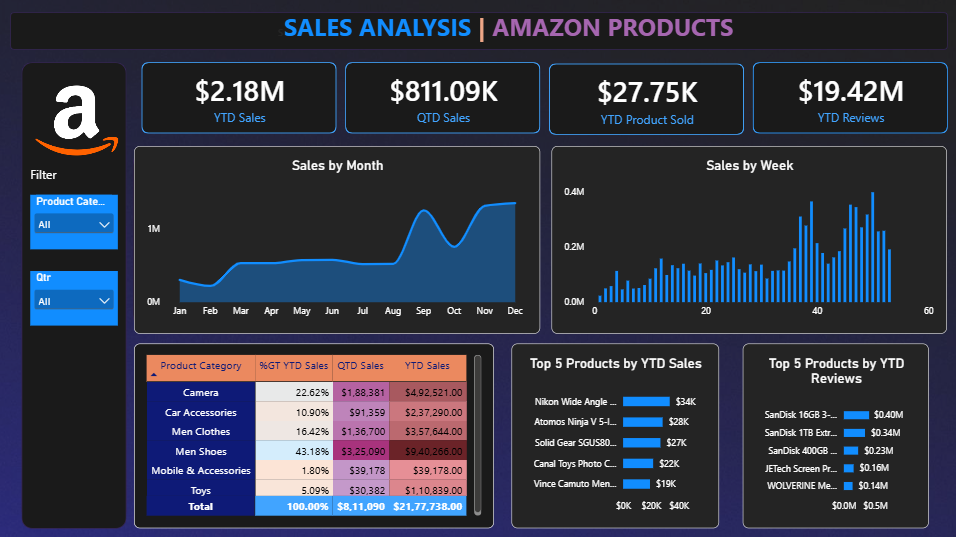

The dashboard page shown, as its layout file describes it:
{"tool":"powerbi","page":{"name":"Page 1","canvas":[1920,1080],"ordinal":0},"visuals":[{"type":"shape","box":[350,261.7,140,622],"z":0},{"type":"shape","box":[335,195,1250,50],"z":1000},{"type":"textbox","box":[691.7,191.7,621.7,58.3],"z":2000},{"type":"shape","box":[510,261.7,260,95],"z":3000},{"type":"cardVisual","fields":{"Data":["Amazon_Data.YTD Sales"]},"box":[510,261.7,260,95],"z":4000},{"type":"shape","box":[781.7,261.7,260,95],"z":5000},{"type":"shape","box":[1053.3,263.3,260,95],"z":6000},{"type":"shape","box":[1325,261.7,260,95],"z":7000},{"type":"cardVisual","fields":{"Data":["Amazon_Data.QTD Sales"]},"box":[781.7,261.7,260,95],"z":8000},{"type":"cardVisual","fields":{"Data":["Amazon_Data.Total_Product Sales"]},"box":[1053.3,263.3,260,95],"z":9000},{"type":"cardVisual","fields":{"Data":["Amazon_Data.Total_Reviews"]},"box":[1325,261.7,260,95],"z":10000},{"type":"shape","box":[498.3,373.3,542,250],"z":11000},{"type":"areaChart","title":"Sales by Month","fields":{"Category":["Date Table.Month column"],"Y":["Sum(Amazon_Data.Price(Dollar))"]},"box":[500,373.3,541.7,250],"z":12000},{"type":"slicer","title":"Sales by Week","fields":{"Values":["Amazon_Data.Product Category"]},"box":[361.4,438.6,117.1,72.9],"z":14000},{"type":"clusteredBarChart","title":"Top 5 Products by YTD Sales ","fields":{"Category":["Amazon_Data.Product Description"],"Y":["Amazon_Data.YTD Sales"]},"box":[1003.3,636.7,276.7,246.7],"z":15000},{"type":"pivotTable","fields":{"Rows":["Amazon_Data.Product Category"],"Values":["Amazon_Data.YTD Sales","Amazon_Data.QTD Sales","Amazon_Data.YTD Sales1"]},"box":[500,636.7,480,246.7],"z":16000},{"type":"clusteredBarChart","title":"Top 5 Products by YTD Reviews ","fields":{"Category":["Amazon_Data.Product Description"],"Y":["Amazon_Data.YTD Reviews"]},"box":[1311.7,636.7,248.3,246.7],"z":17000},{"type":"slicer","title":"Sales by Week","fields":{"Values":["Date Table.Qtr"]},"box":[361.4,540,117.1,72.9],"z":18000},{"type":"clusteredColumnChart","title":"Sales by Week","fields":{"Category":["Date Table.Week"],"Y":["Sum(Amazon_Data.Price(Dollar))"]},"box":[1057.1,372.9,527.1,250],"z":18001},{"type":"textbox","box":[361.4,400,95.7,27.1],"z":18002},{"type":"image","box":[368.6,291.4,110,95.7],"z":18003}]}

Visuals, with their boxes in screenshot pixels (x1, y1, x2, y2), scaled from the page's 1920x1080 canvas onto the 956x537 screenshot:
shape: box=[174, 130, 244, 439]
shape: box=[167, 97, 789, 122]
textbox: box=[344, 95, 654, 124]
shape: box=[254, 130, 383, 177]
cardVisual - Amazon_Data.YTD Sales: box=[254, 130, 383, 177]
shape: box=[389, 130, 519, 177]
shape: box=[524, 131, 654, 178]
shape: box=[660, 130, 789, 177]
cardVisual - Amazon_Data.QTD Sales: box=[389, 130, 519, 177]
cardVisual - Amazon_Data.Total_Product Sales: box=[524, 131, 654, 178]
cardVisual - Amazon_Data.Total_Reviews: box=[660, 130, 789, 177]
shape: box=[248, 186, 518, 310]
"Sales by Month" areaChart: box=[249, 186, 519, 310]
"Sales by Week" slicer: box=[180, 218, 238, 254]
"Top 5 Products by YTD Sales " clusteredBarChart: box=[500, 317, 637, 439]
pivotTable - Amazon_Data.Product Category x Amazon_Data.YTD Sales: box=[249, 317, 488, 439]
"Top 5 Products by YTD Reviews " clusteredBarChart: box=[653, 317, 777, 439]
"Sales by Week" slicer: box=[180, 268, 238, 305]
"Sales by Week" clusteredColumnChart: box=[526, 185, 789, 310]
textbox: box=[180, 199, 228, 212]
image: box=[184, 145, 238, 192]
